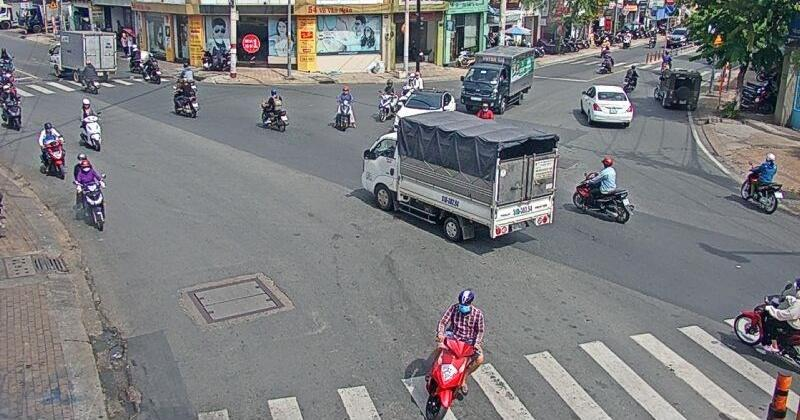xe hoi: (391, 91, 455, 126), (581, 84, 633, 125)
xe may: (425, 290, 485, 420), (571, 156, 633, 225), (739, 152, 783, 214), (73, 153, 106, 231), (39, 122, 65, 180), (79, 97, 101, 151), (260, 90, 288, 131), (172, 78, 199, 117), (377, 78, 398, 123), (334, 86, 354, 130)
xe tai: (360, 110, 558, 241), (458, 46, 533, 108)
